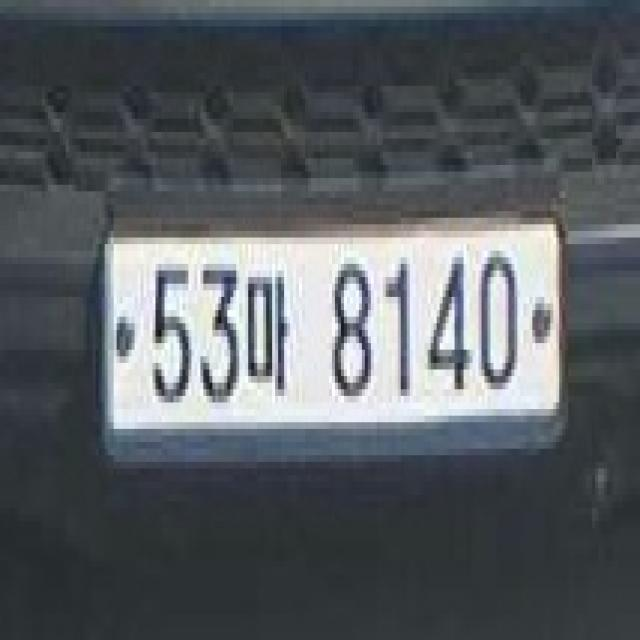0: (470, 244, 530, 396)
1: (376, 244, 424, 389)
3: (192, 244, 246, 422)
4: (422, 238, 476, 409)
5: (144, 250, 198, 402)
8: (326, 264, 389, 402)
license_plate: (99, 198, 574, 468)
ma: (239, 264, 293, 402)
